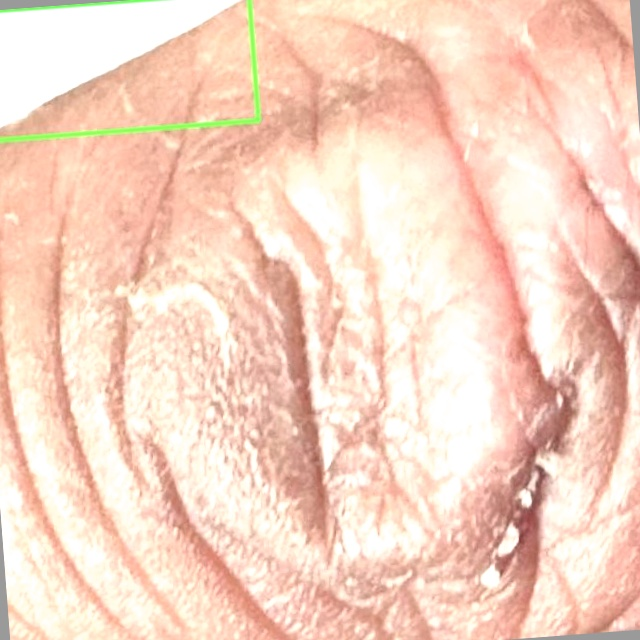Contact Dermatitis: (0, 0, 258, 139)
